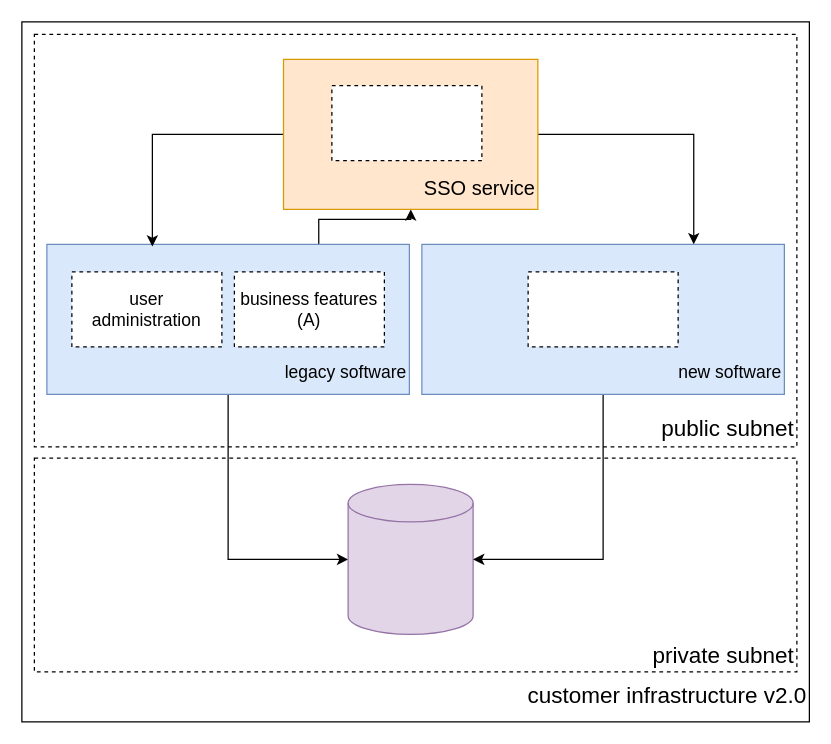
This 831x744 diagram has some shape labels left out. The shapes that lost their labels are listed below. From the top down, each one's centre as x and y in pixels, then its label:
At pixel 406 122: "authentication".
At pixel 602 309: "business features (B)".
At pixel 410 558: "Database".
